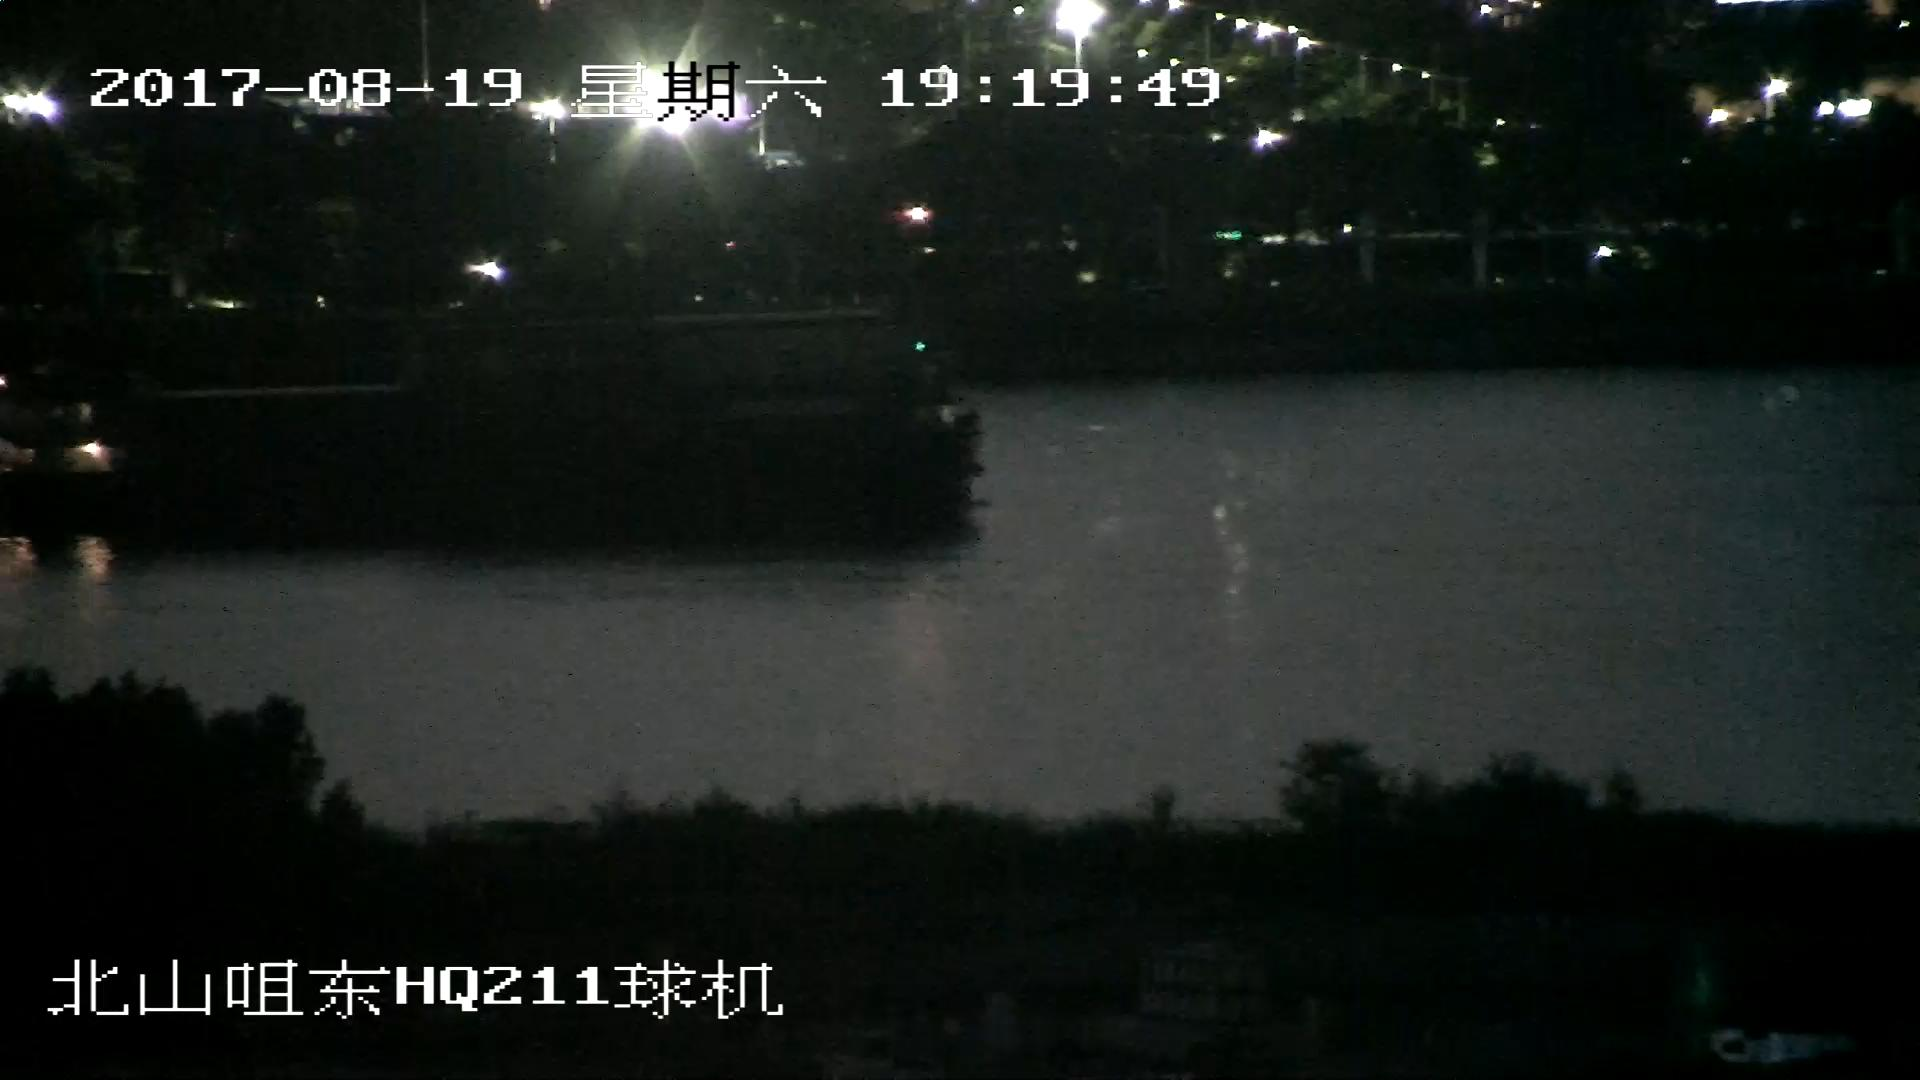container ship: (1, 311, 984, 548)
